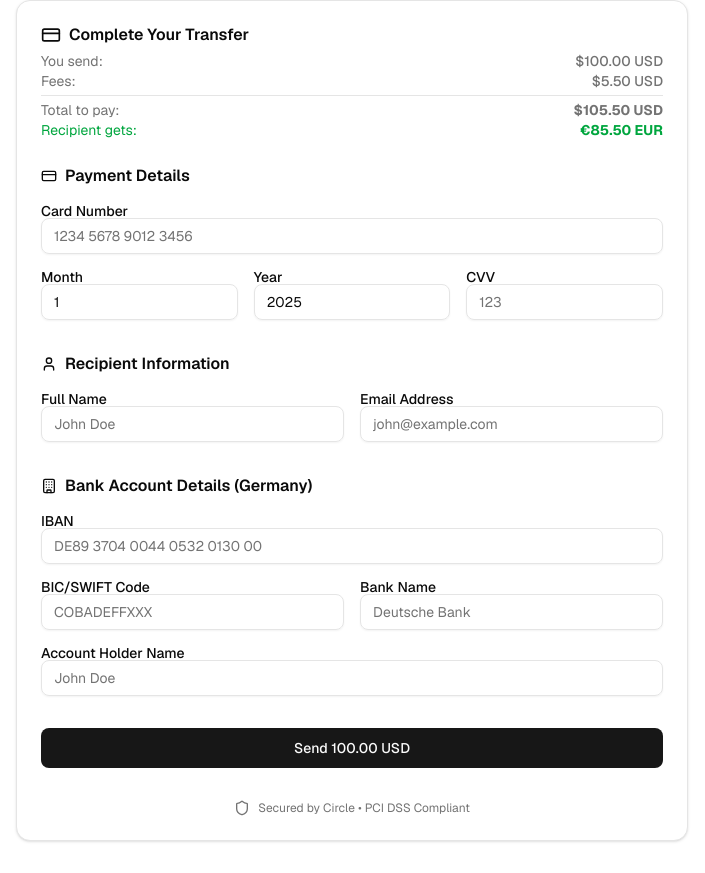
Test case: PaymentForm › validates card details correctly
Click the button "Send 100.00 USD": click(352, 748) [41,728,663,768]
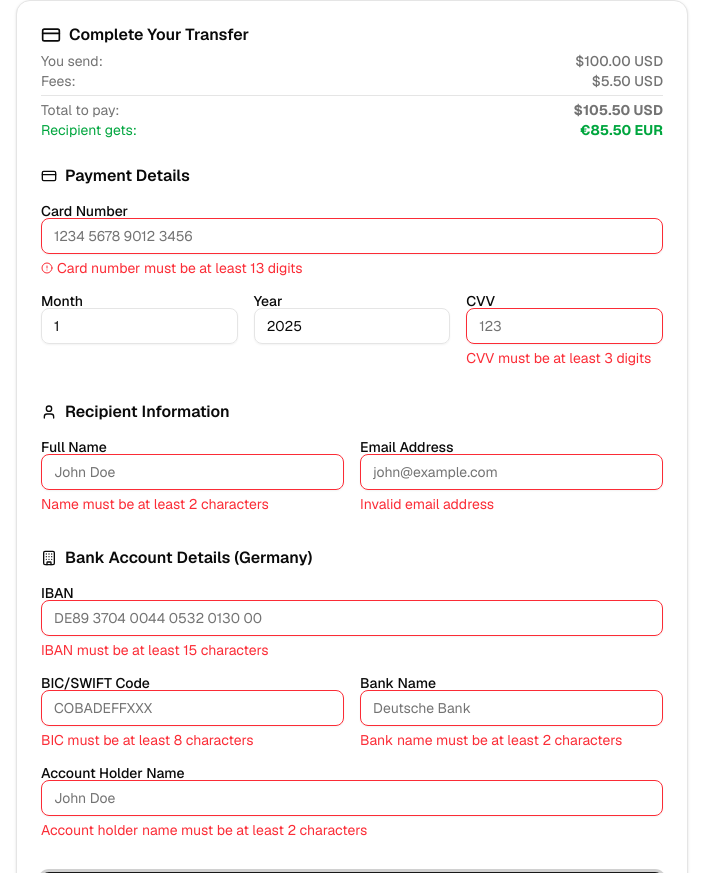
Expected: the text "Card number must be at least 13 digits" is shown, [41,259,303,277]
Expected: the text "CVV must be at least 3 digits" is shown, [466,348,663,368]
